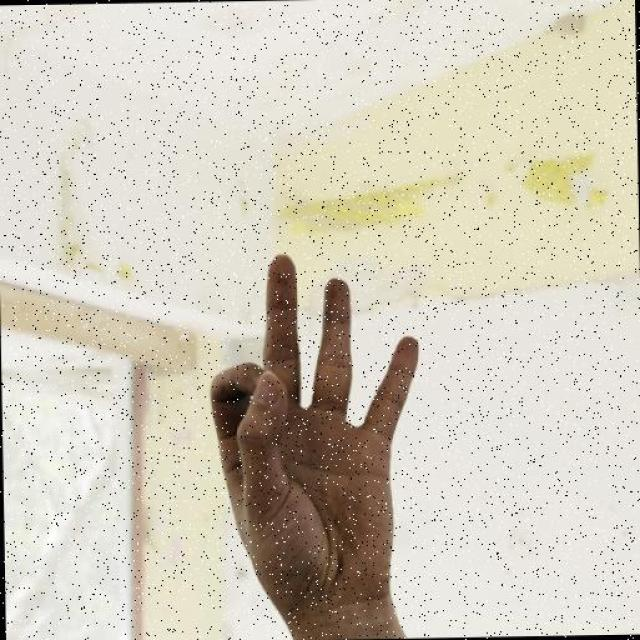F: (207, 250, 426, 628)
